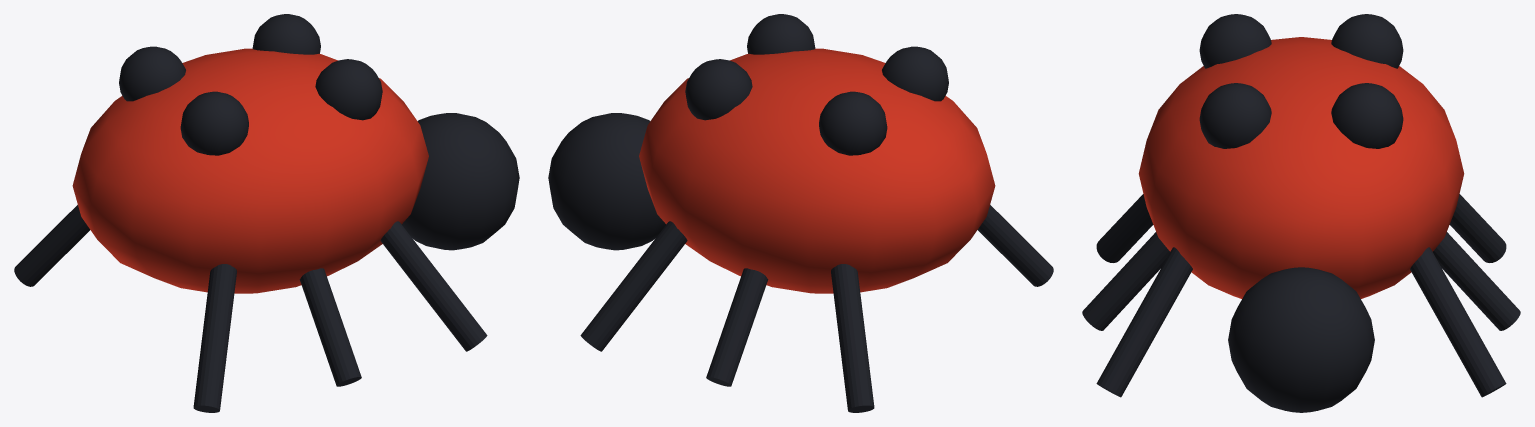
The model's file is beetle.glb.
The picture shows the model from 3 angles, left to right: view 1: azimuth 30°, elevation 25°; view 2: azimuth 150°, elevation 25°; view 3: azimuth 270°, elevation 25°; orthographic projection. The views are drawn at different scales.
Parts seen in each view (by area): view 1: Sphere, Sphere.001; view 2: Sphere, Sphere.001; view 3: Sphere, Sphere.001.
Part boxes in pixels (x1,y1,x2,y2): Sphere: [72, 48, 428, 293]; Sphere.001: [14, 14, 519, 412]; Sphere: [639, 48, 995, 293]; Sphere.001: [548, 14, 1053, 412]; Sphere: [1138, 37, 1464, 298]; Sphere.001: [1082, 14, 1520, 412].
Bounding box in the file's own units: 1.26 × 0.7502 × 1.08.
